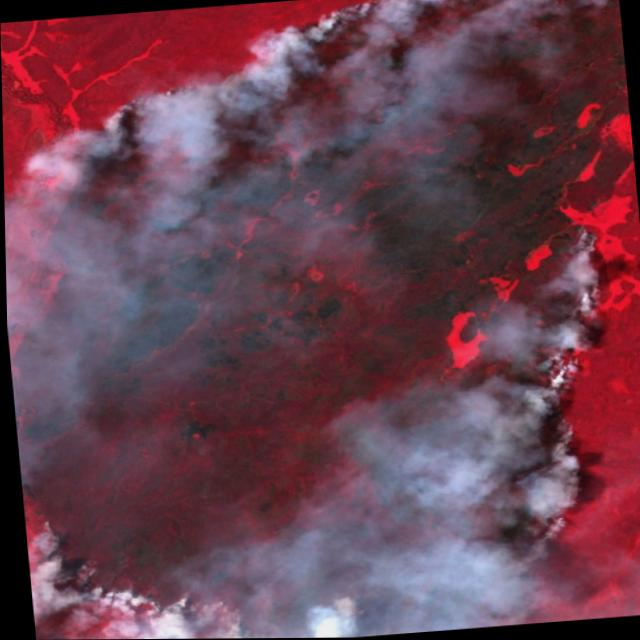fire: (23, 513, 271, 640), (514, 282, 622, 523), (96, 77, 204, 134), (548, 225, 611, 263), (334, 0, 381, 19)
